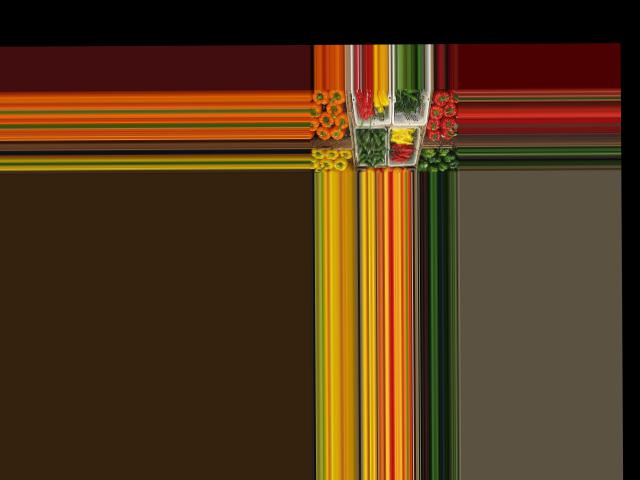bell_pepper: (436, 145, 450, 160)
